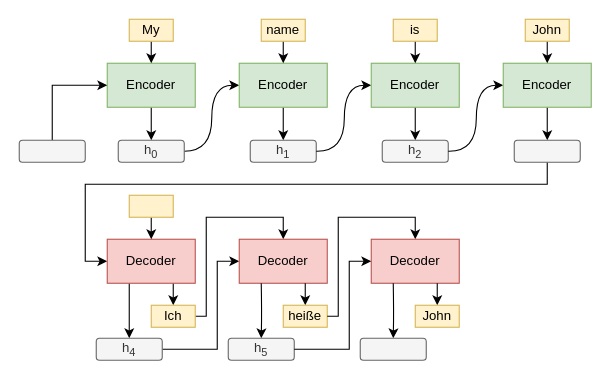
The diagram is 611 pixels wide and 380 high, and some of its shapes have lost their labels. The centre of each missing label's shape, as x and y in pixels:
<Start>: the point at 150,205
h 3: the point at 546,150
h 6: the point at 392,348
h start: the point at 51,150
